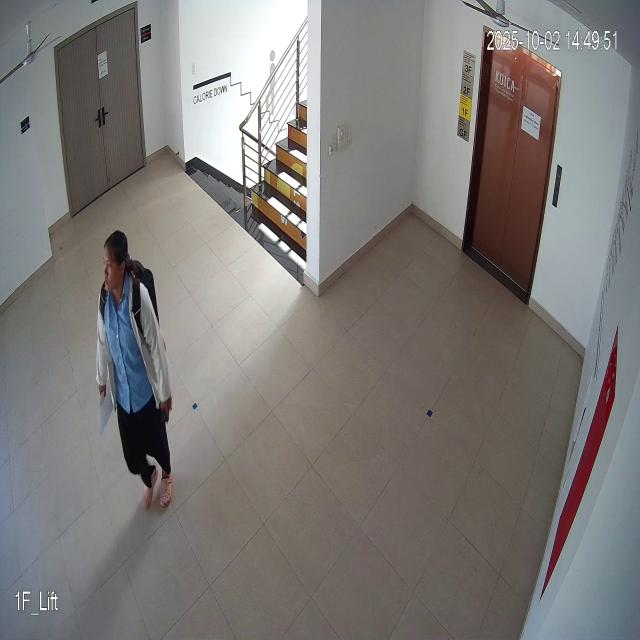face: (98, 225, 132, 298)
